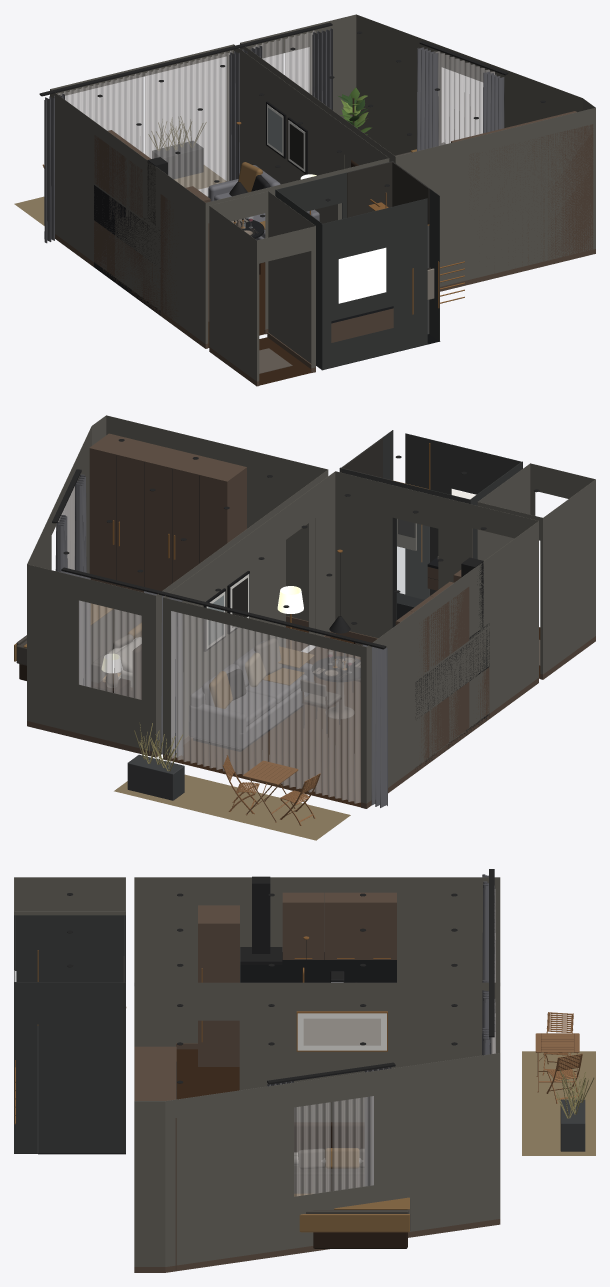
The model's file is unit-1.B-noir.glb.
3 renders of one model, top to bottom at view 1: azimuth 30°, elevation 25°; view 2: azimuth 150°, elevation 25°; view 3: azimuth 270°, elevation 25°, orthographic. The views are drawn at different scales.
Parts seen in each view (by area): view 1: int-wall, int-sheer, int-bathWall, int-joineryTall, int-curtain, int-joinery, int-showerWall, int-matteBlack, int-ledStrip, int-skirting, int-splash, int-outdoor (+12 smaller); view 2: int-wall, int-sheer, int-joineryTall, int-floor, int-bathWall, int-curtain, int-sofa, int-deck, int-joinery, int-matteBlack, int-glass, int-skirting (+18 smaller); view 3: int-wall, int-bathWall, int-joineryTall, int-joinery, int-sheer, int-deck, int-matteBlack, int-headboard, int-splash, int-bedThrow, int-art:0:1, int-floor (+12 smaller).
Part boxes in pixels (left/top/right/bottom): int-wall: left=50, top=14, right=595, bottom=381; int-sheer: left=58, top=30, right=494, bottom=196; int-bathWall: left=275, top=161, right=439, bottom=369; int-joineryTall: left=160, top=111, right=593, bottom=342; int-curtain: left=44, top=28, right=504, bottom=243; int-joinery: left=94, top=130, right=160, bottom=308; int-showerWall: left=347, top=161, right=429, bottom=333; int-matteBlack: left=39, top=22, right=508, bottom=315; int-ledStrip: left=338, top=247, right=386, bottom=303; int-skirting: left=55, top=234, right=595, bottom=386; int-splash: left=94, top=185, right=160, bottom=256; int-outdoor: left=152, top=141, right=203, bottom=178; int-wall: left=27, top=415, right=595, bottom=803; int-sheer: left=55, top=486, right=360, bottom=803; int-joineryTall: left=89, top=433, right=461, bottom=592; int-floor: left=171, top=621, right=370, bottom=807; int-bathWall: left=339, top=430, right=522, bottom=627; int-curtain: left=55, top=474, right=387, bottom=807; int-sofa: left=189, top=641, right=314, bottom=749; int-deck: left=114, top=774, right=350, bottom=840; int-joinery: left=395, top=581, right=489, bottom=762; int-matteBlack: left=52, top=469, right=489, bottom=771; int-glass: left=397, top=519, right=429, bottom=606; int-skirting: left=27, top=616, right=595, bottom=808; int-wall: left=14, top=877, right=500, bottom=1266; int-bathWall: left=14, top=915, right=125, bottom=1153; int-joineryTall: left=134, top=905, right=239, bottom=1271; int-joinery: left=282, top=892, right=396, bottom=959; int-sheer: left=294, top=885, right=495, bottom=1196; int-deck: left=522, top=1051, right=595, bottom=1155; int-matteBlack: left=240, top=869, right=494, bottom=1084; int-headboard: left=294, top=1122, right=407, bottom=1248; int-splash: left=240, top=952, right=396, bottom=982; int-bedThrow: left=294, top=1194, right=409, bottom=1232; int-art:0:1: left=303, top=1018, right=380, bottom=1045; int-floor: left=176, top=1049, right=239, bottom=1099.
Size of the model in its own units: 7.77 by 2.8 by 8.26.
